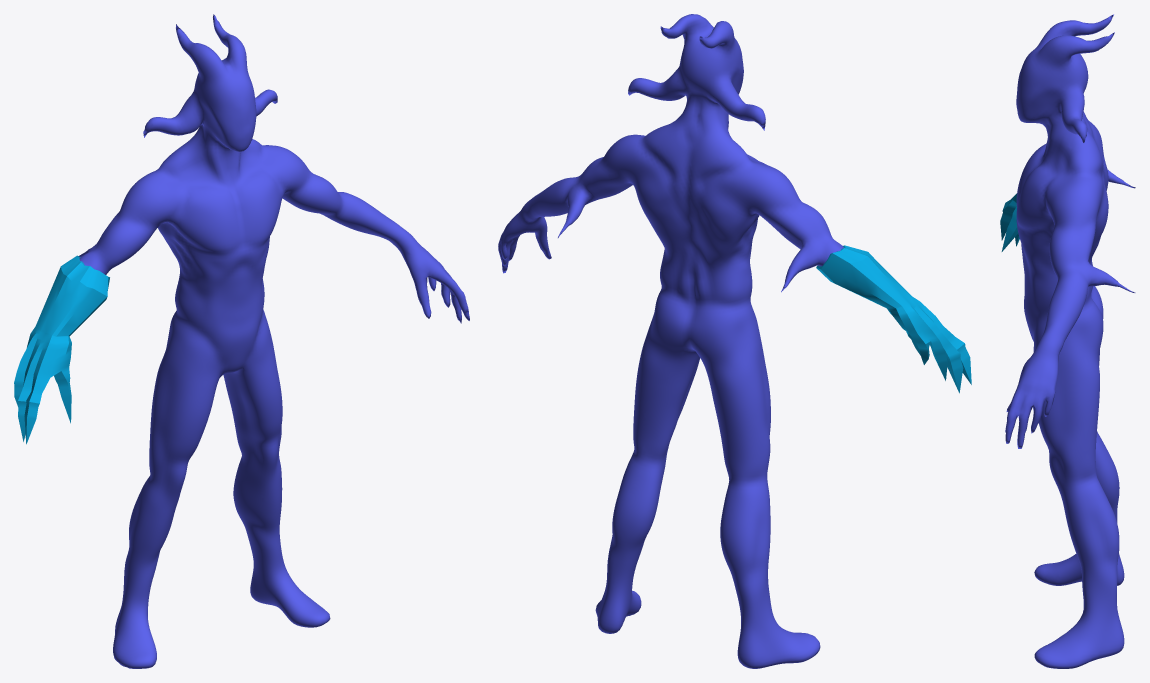
File: Enemigo02_v2Low.fbx
3 views of the same model, side by side, from view 1: azimuth 30°, elevation 25°; view 2: azimuth 150°, elevation 25°; view 3: azimuth 270°, elevation 25° (orthographic). The views are drawn at different scales.
Parts seen in each view (by area): view 1: Enemigo02_Low, CrystalHandLow; view 2: Enemigo02_Low, CrystalHandLow; view 3: Enemigo02_Low, CrystalHandLow.
Boxes of the visible parts, x1,y1,x2,y2 form: Enemigo02_Low: (79, 14, 469, 668); CrystalHandLow: (14, 255, 109, 444); Enemigo02_Low: (498, 14, 843, 668); CrystalHandLow: (816, 245, 971, 393); Enemigo02_Low: (1005, 14, 1135, 668); CrystalHandLow: (1000, 193, 1019, 251).
Bounding box in the file's own units: 488 × 630 × 129.
